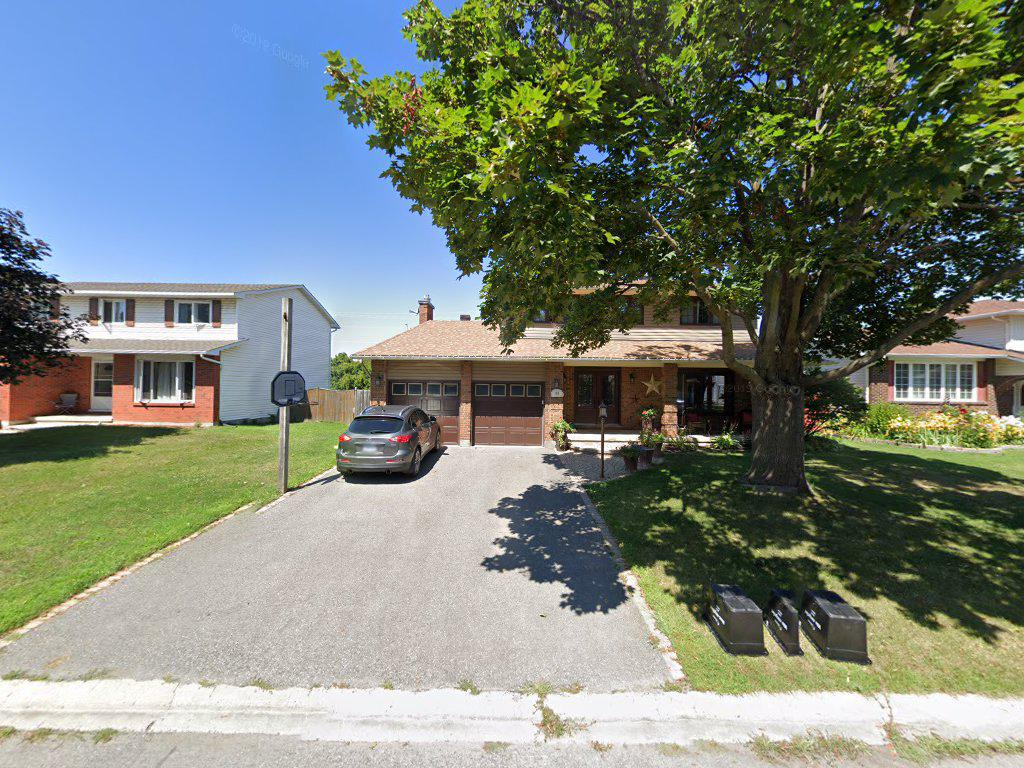trunk: (744, 291, 814, 493)
